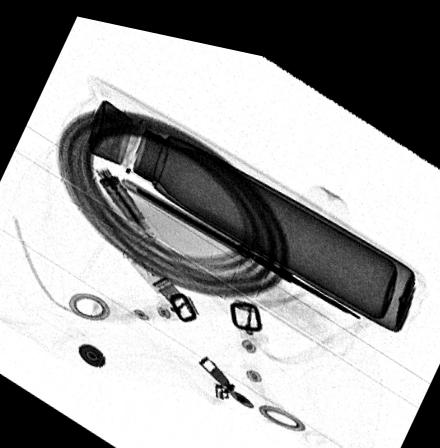Pliers: (128, 182, 364, 303)
